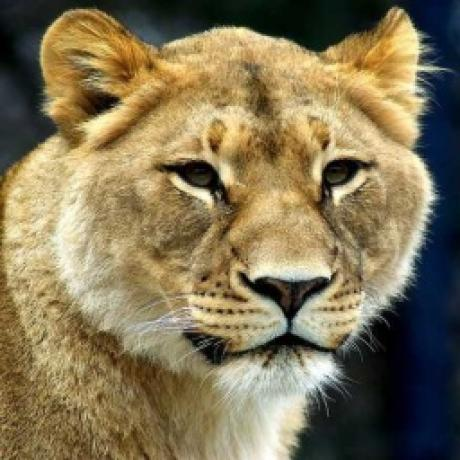Lion: (0, 0, 444, 460)
